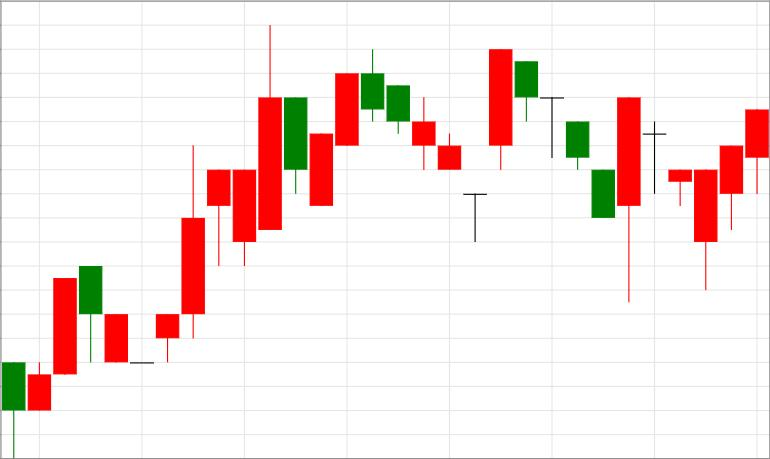bullish_engulfing_rise: (514, 61, 641, 301)
